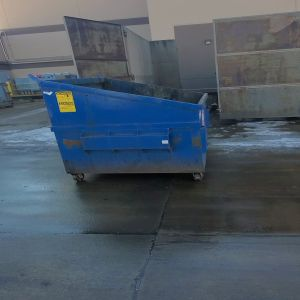Dumpster: (41, 81, 212, 185)
